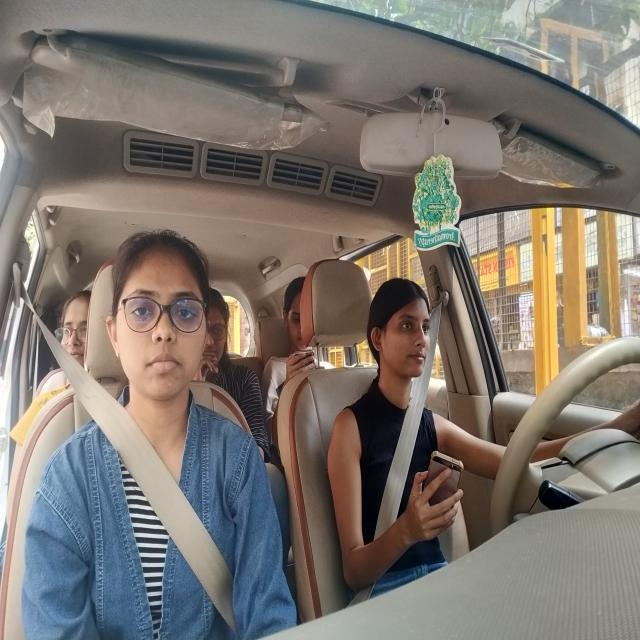mobile: (413, 443, 469, 546)
person: (101, 224, 216, 411), (365, 257, 447, 401), (36, 282, 90, 388), (201, 268, 240, 385), (269, 279, 317, 373)
